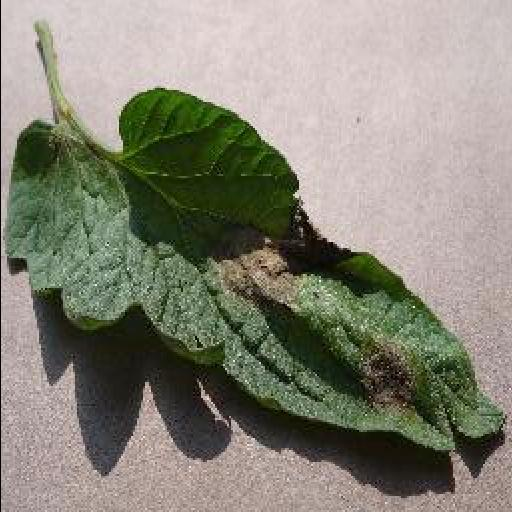disease_tomato: (0, 86, 510, 452)
